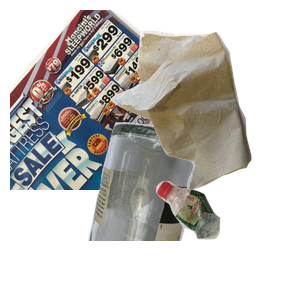glass: (86, 120, 277, 300)
paper: (10, 10, 240, 190)
plastic: (153, 178, 300, 300)
trash: (109, 28, 300, 208)
